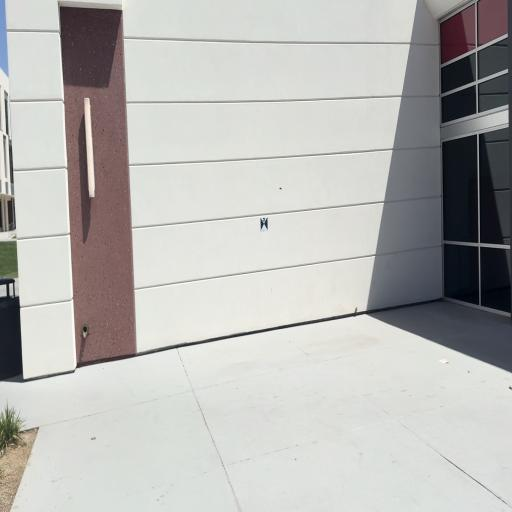target0: (260, 216, 268, 232)
